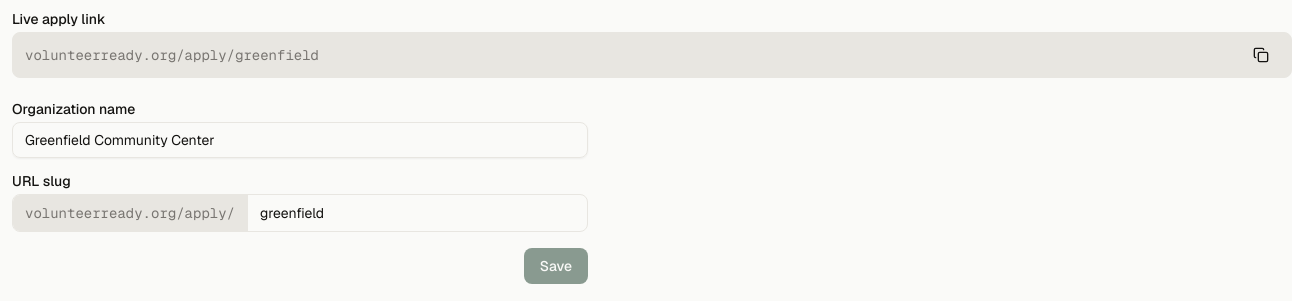
Test case: OrgProfileForm › enables Save once dirty and valid
In the field labelled "Organization name": (300, 140) [12,122,588,158], type " II"
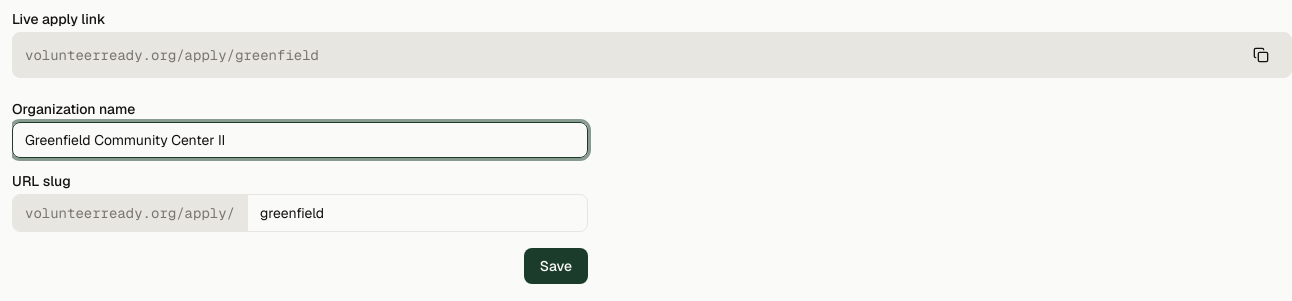
expect the button "Save" is enabled: met, box [524,248,588,284]
